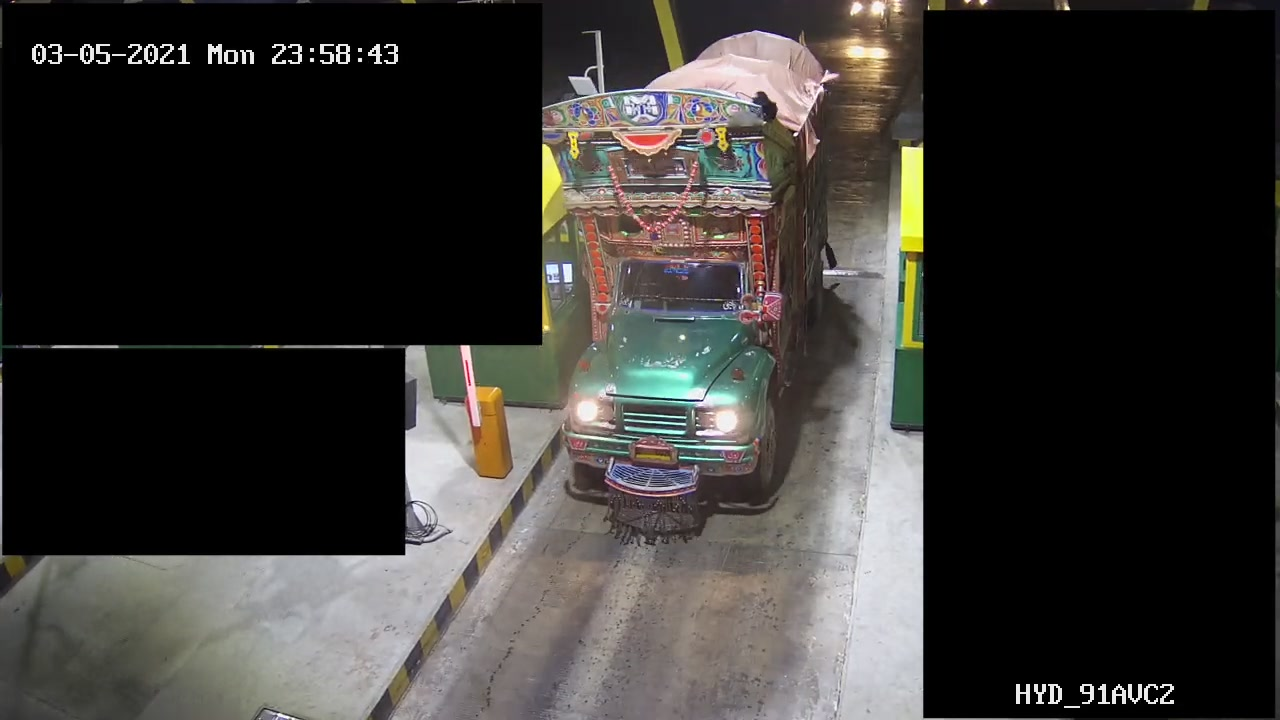F5: (532, 32, 844, 565)
